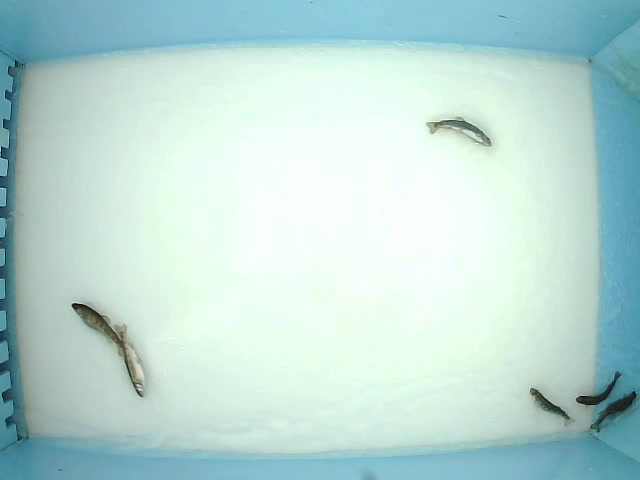fish: (70, 301, 129, 362), (424, 113, 495, 151), (116, 322, 148, 399), (590, 391, 638, 433), (529, 387, 576, 426), (575, 370, 622, 406)
